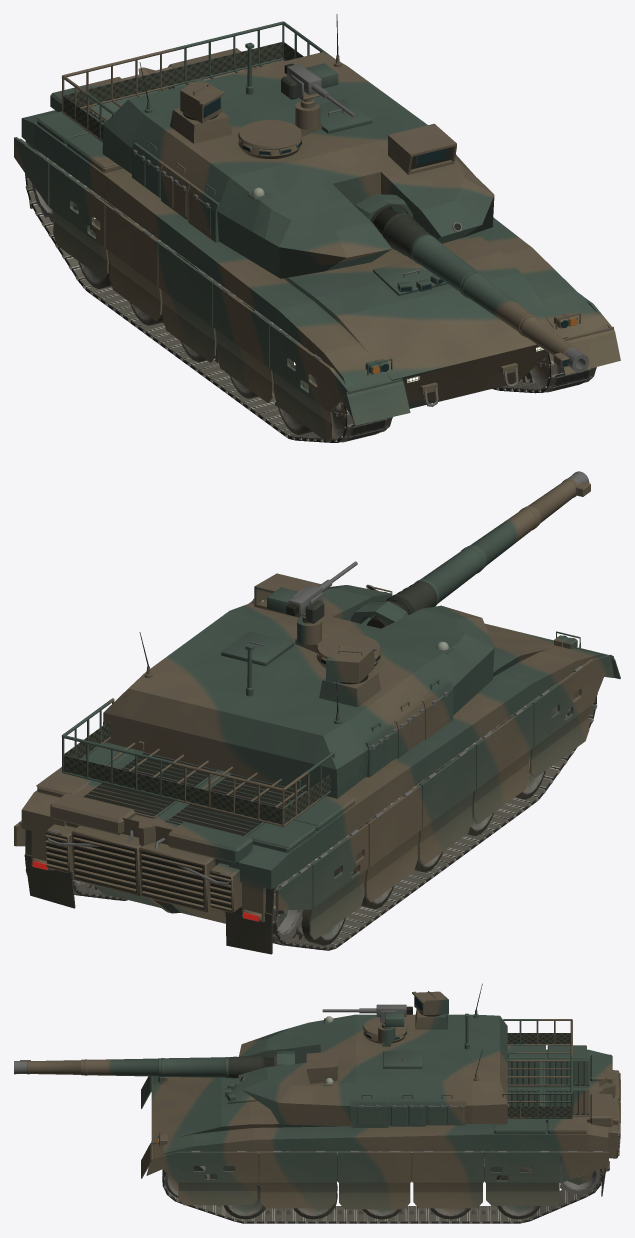
Rendered from type10.glb.
The picture shows the model from 3 angles, top to bottom: view 1: azimuth 30°, elevation 25°; view 2: azimuth 150°, elevation 25°; view 3: azimuth 270°, elevation 25°; orthographic projection. The views are drawn at different scales.
Visible parts, largest first — view 1: hull_shell, turret_shell, gun_shell, band_r, band_l; view 2: hull_shell, turret_shell, gun_shell, band_r, disc_r8; view 3: hull_shell, turret_shell, band_l, gun_shell, disc_l9, disc_l1, disc_l8, disc_l3, disc_l6.
Part boxes in pixels (bbox=[...]): hull_shell: bbox=[14, 48, 620, 442]; turret_shell: bbox=[62, 14, 494, 278]; gun_shell: bbox=[373, 207, 589, 372]; band_r: bbox=[25, 153, 392, 442]; band_l: bbox=[492, 353, 596, 393]; hull_shell: bbox=[14, 587, 620, 954]; turret_shell: bbox=[61, 561, 494, 826]; gun_shell: bbox=[367, 471, 590, 628]; band_r: bbox=[272, 672, 597, 950]; disc_r8: bbox=[284, 909, 345, 945]; hull_shell: bbox=[141, 1045, 620, 1209]; turret_shell: bbox=[238, 983, 572, 1127]; band_l: bbox=[162, 1151, 603, 1223]; gun_shell: bbox=[14, 1054, 274, 1078]; disc_l9: bbox=[560, 1156, 600, 1195]; disc_l1: bbox=[223, 1167, 265, 1219]; disc_l8: bbox=[496, 1167, 540, 1219]; disc_l3: bbox=[293, 1182, 337, 1219]; disc_l6: bbox=[430, 1208, 470, 1219].
Bounding box in the file's own units: 3.28 × 3.01 × 9.42.
Materials: 5 (3 with a texture image).
